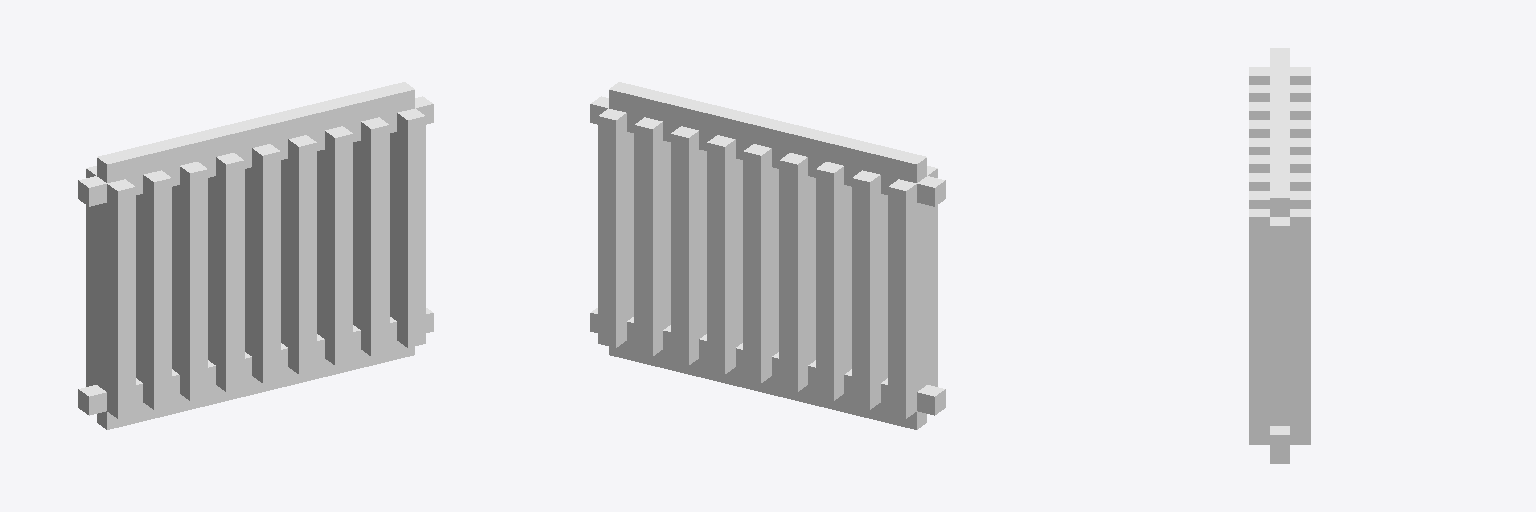
File: Radiateur_1.obj
3 renders of one model, left to right at view 1: azimuth 30°, elevation 25°; view 2: azimuth 150°, elevation 25°; view 3: azimuth 270°, elevation 25°, orthographic.
Parts seen in each view (by area): view 1: object 1; view 2: object 1; view 3: object 1.
Part boxes in pixels (x1,y1,x2,y2): object 1: (78, 82, 433, 429); object 1: (590, 82, 945, 429); object 1: (1249, 48, 1310, 463).
Bounding box in the file's own units: 1.9 × 1.4 × 0.3.